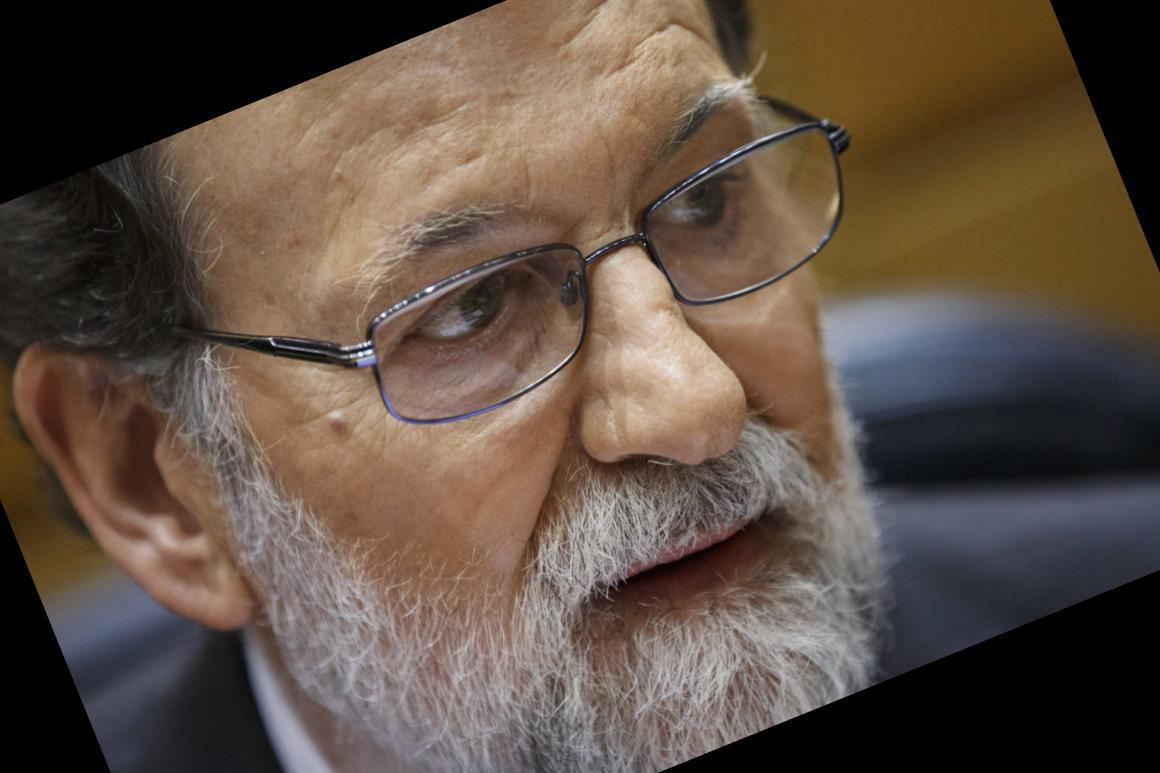Sober: (227, 90, 855, 698)
